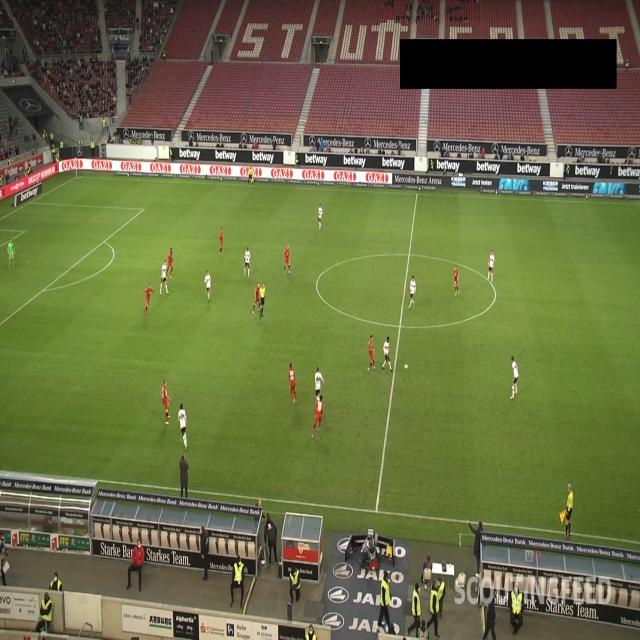ball: (403, 363, 409, 370)
